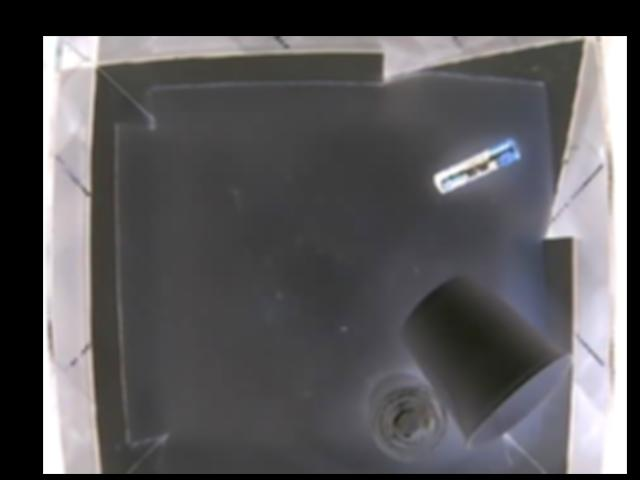Battery: (432, 141, 519, 191)
Bottle: (366, 368, 449, 456)
Cup: (403, 273, 567, 450)
